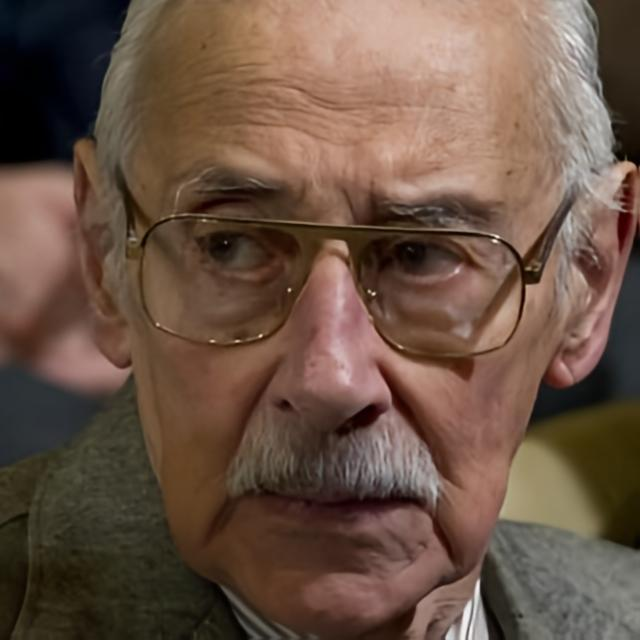anger: (126, 0, 558, 637)
